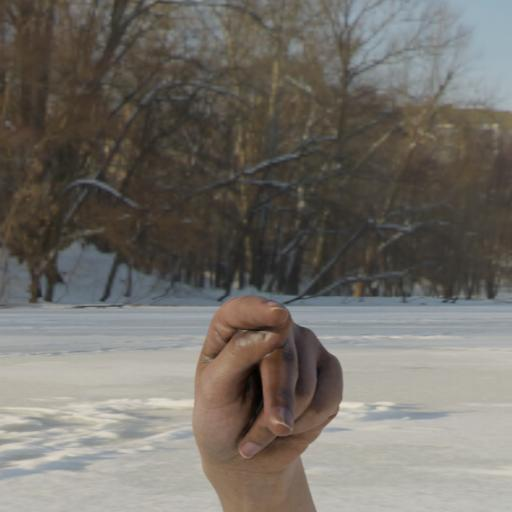P: (180, 277, 352, 512)
